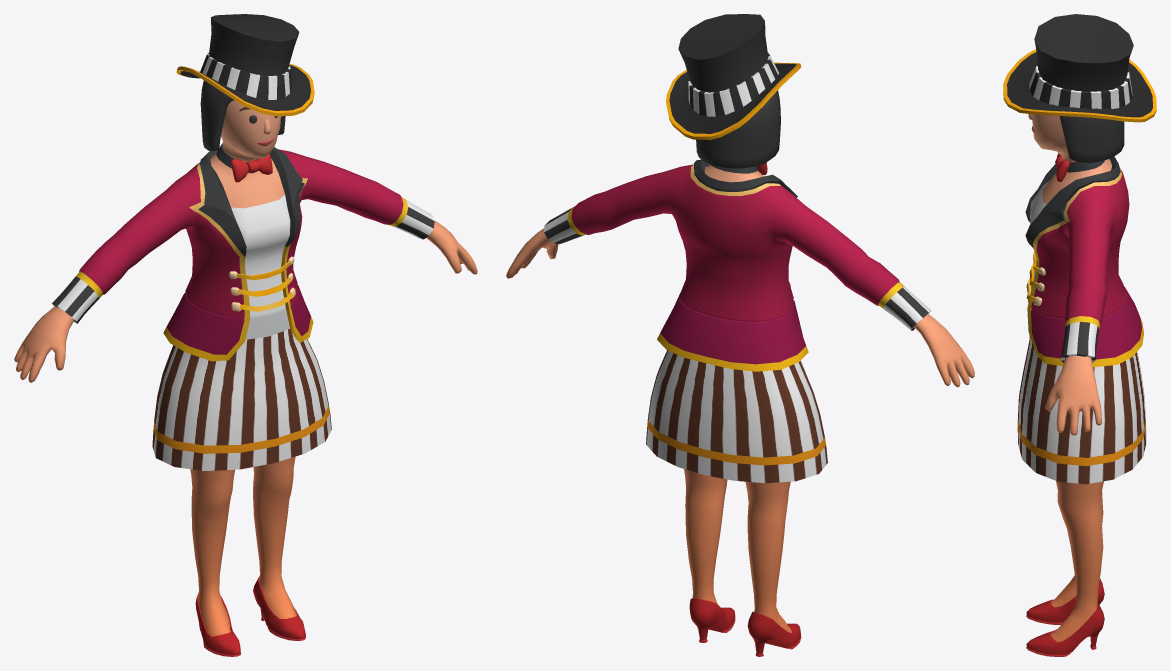
The model's file is 20_Showgirl.obj.
3 views of the same model, side by side, from view 1: azimuth 30°, elevation 25°; view 2: azimuth 150°, elevation 25°; view 3: azimuth 270°, elevation 25° (orthographic).
Visible parts, largest first — view 1: Adult_Female_Showgirl_Outwear, Adult_Female_Showgirl_Skirt, Adult_Female_Showgirl_Body, Adult_Female_Showgirl_Hat, Adult_Female_Showgirl_HeelShoes, Adult_Female_Showgirl_Hairstyle; view 2: Adult_Female_Showgirl_Outwear, Adult_Female_Showgirl_Skirt, Adult_Female_Showgirl_Body, Adult_Female_Showgirl_Hat, Adult_Female_Showgirl_Hairstyle, Adult_Female_Showgirl_HeelShoes; view 3: Adult_Female_Showgirl_Outwear, Adult_Female_Showgirl_Hat, Adult_Female_Showgirl_Skirt, Adult_Female_Showgirl_Body, Adult_Female_Showgirl_HeelShoes, Adult_Female_Showgirl_Hairstyle.
Boxes of the visible parts, bbox=[...] form: Adult_Female_Showgirl_Outwear: bbox=[52, 143, 434, 361]; Adult_Female_Showgirl_Skirt: bbox=[152, 329, 331, 470]; Adult_Female_Showgirl_Body: bbox=[14, 100, 477, 636]; Adult_Female_Showgirl_Hat: bbox=[176, 14, 314, 116]; Adult_Female_Showgirl_HeelShoes: bbox=[195, 575, 305, 656]; Adult_Female_Showgirl_Hairstyle: bbox=[200, 80, 285, 151]; Adult_Female_Showgirl_Outwear: bbox=[544, 159, 931, 371]; Adult_Female_Showgirl_Skirt: bbox=[646, 350, 827, 483]; Adult_Female_Showgirl_Body: bbox=[506, 165, 974, 632]; Adult_Female_Showgirl_Hat: bbox=[666, 14, 801, 139]; Adult_Female_Showgirl_Hairstyle: bbox=[696, 90, 780, 168]; Adult_Female_Showgirl_HeelShoes: bbox=[689, 598, 801, 656]; Adult_Female_Showgirl_Outwear: bbox=[1025, 153, 1143, 367]; Adult_Female_Showgirl_Hat: bbox=[1003, 14, 1156, 122]; Adult_Female_Showgirl_Skirt: bbox=[1017, 336, 1146, 484]; Adult_Female_Showgirl_Body: bbox=[1028, 114, 1111, 642]; Adult_Female_Showgirl_HeelShoes: bbox=[1026, 578, 1104, 656]; Adult_Female_Showgirl_Hairstyle: bbox=[1059, 116, 1124, 163].
Size of the model in its own units: 1.43 by 1.85 by 0.4211.
Materials: 2 (2 with a texture image).
